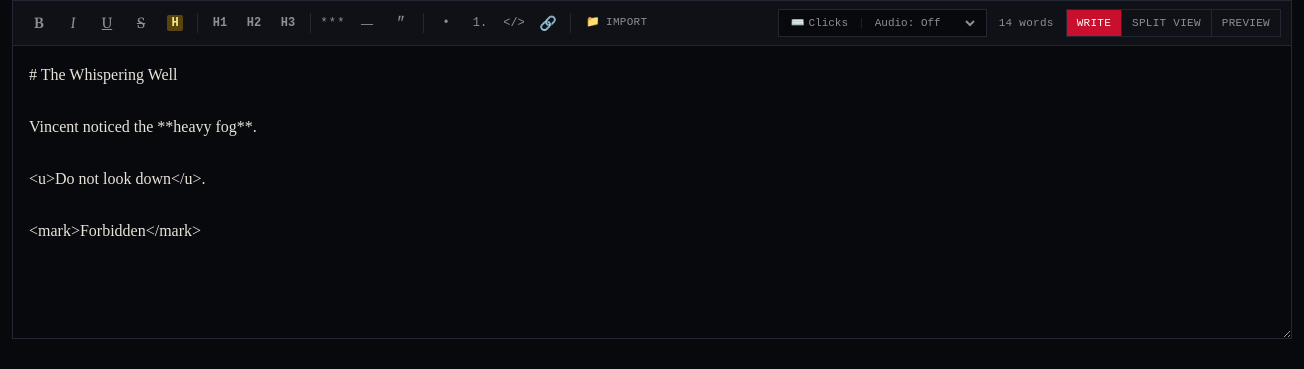
Test: MarkdownEditor Component › switches to preview mode and renders RTF HTML correctly
// Click Preview
Click the button "Preview" at coordinates (1245, 23), box [1211,10,1280,36]
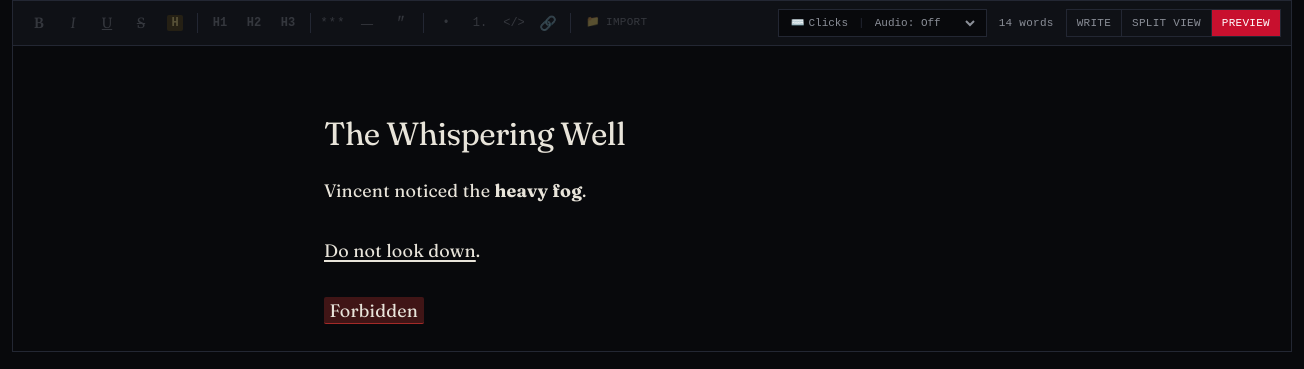
Now the heading reads "The Whispering Well", box [324,114,625,153]
Now the text "heavy fog" is shown, box [494,179,582,202]
Now the text "Do not look down" is shown, box [324,239,476,262]
